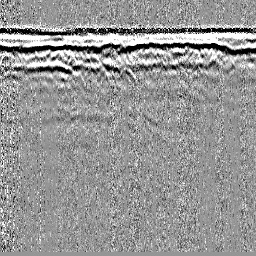cavity: (119, 62, 137, 83)
